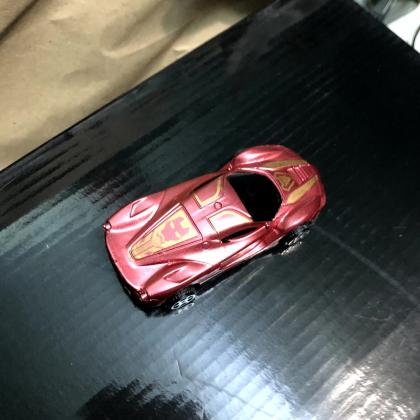Car: (103, 145, 327, 312)
